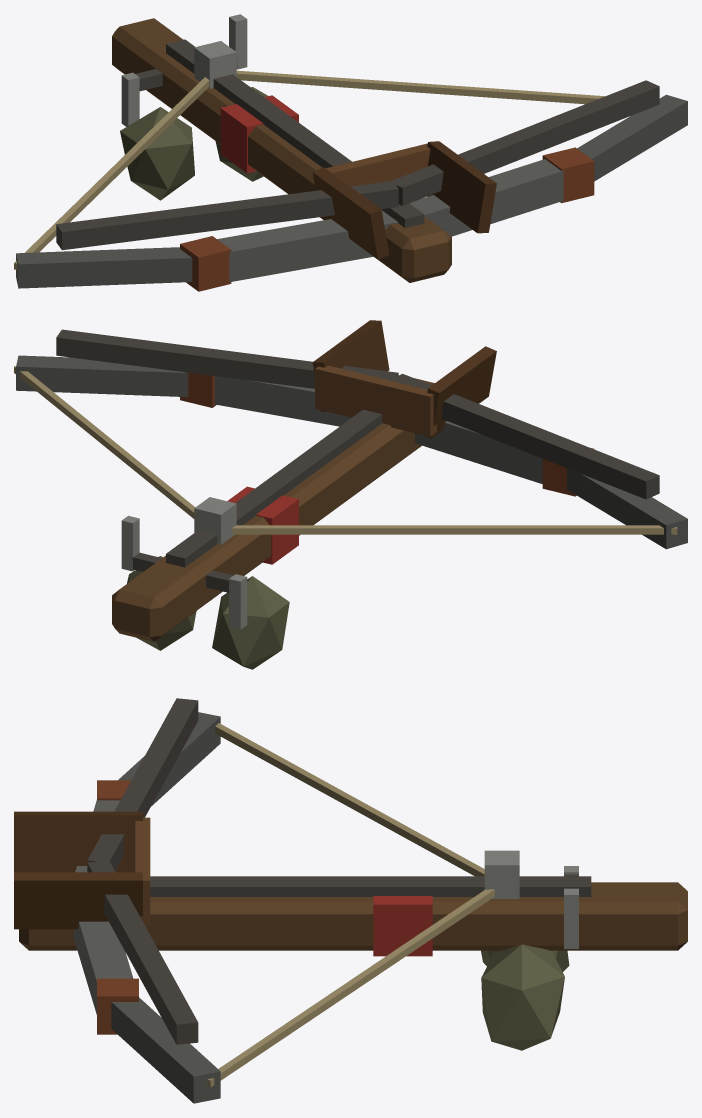
Rendered from rede_topo_3.glb.
3 views of the same model, one above another, from view 1: azimuth 30°, elevation 25°; view 2: azimuth 150°, elevation 25°; view 3: azimuth 270°, elevation 25° (orthographic). The views are drawn at different scales.
Visible parts, largest first — view 1: rede_topo_3.001; view 2: rede_topo_3.001; view 3: rede_topo_3.001.
Boxes of the visible parts, left/top/right/bottom form: rede_topo_3.001: left=14, top=14, right=687, bottom=291; rede_topo_3.001: left=14, top=320, right=687, bottom=669; rede_topo_3.001: left=14, top=698, right=687, bottom=1103.
Bounding box in the file's own units: 1.75 × 0.4047 × 1.36.
